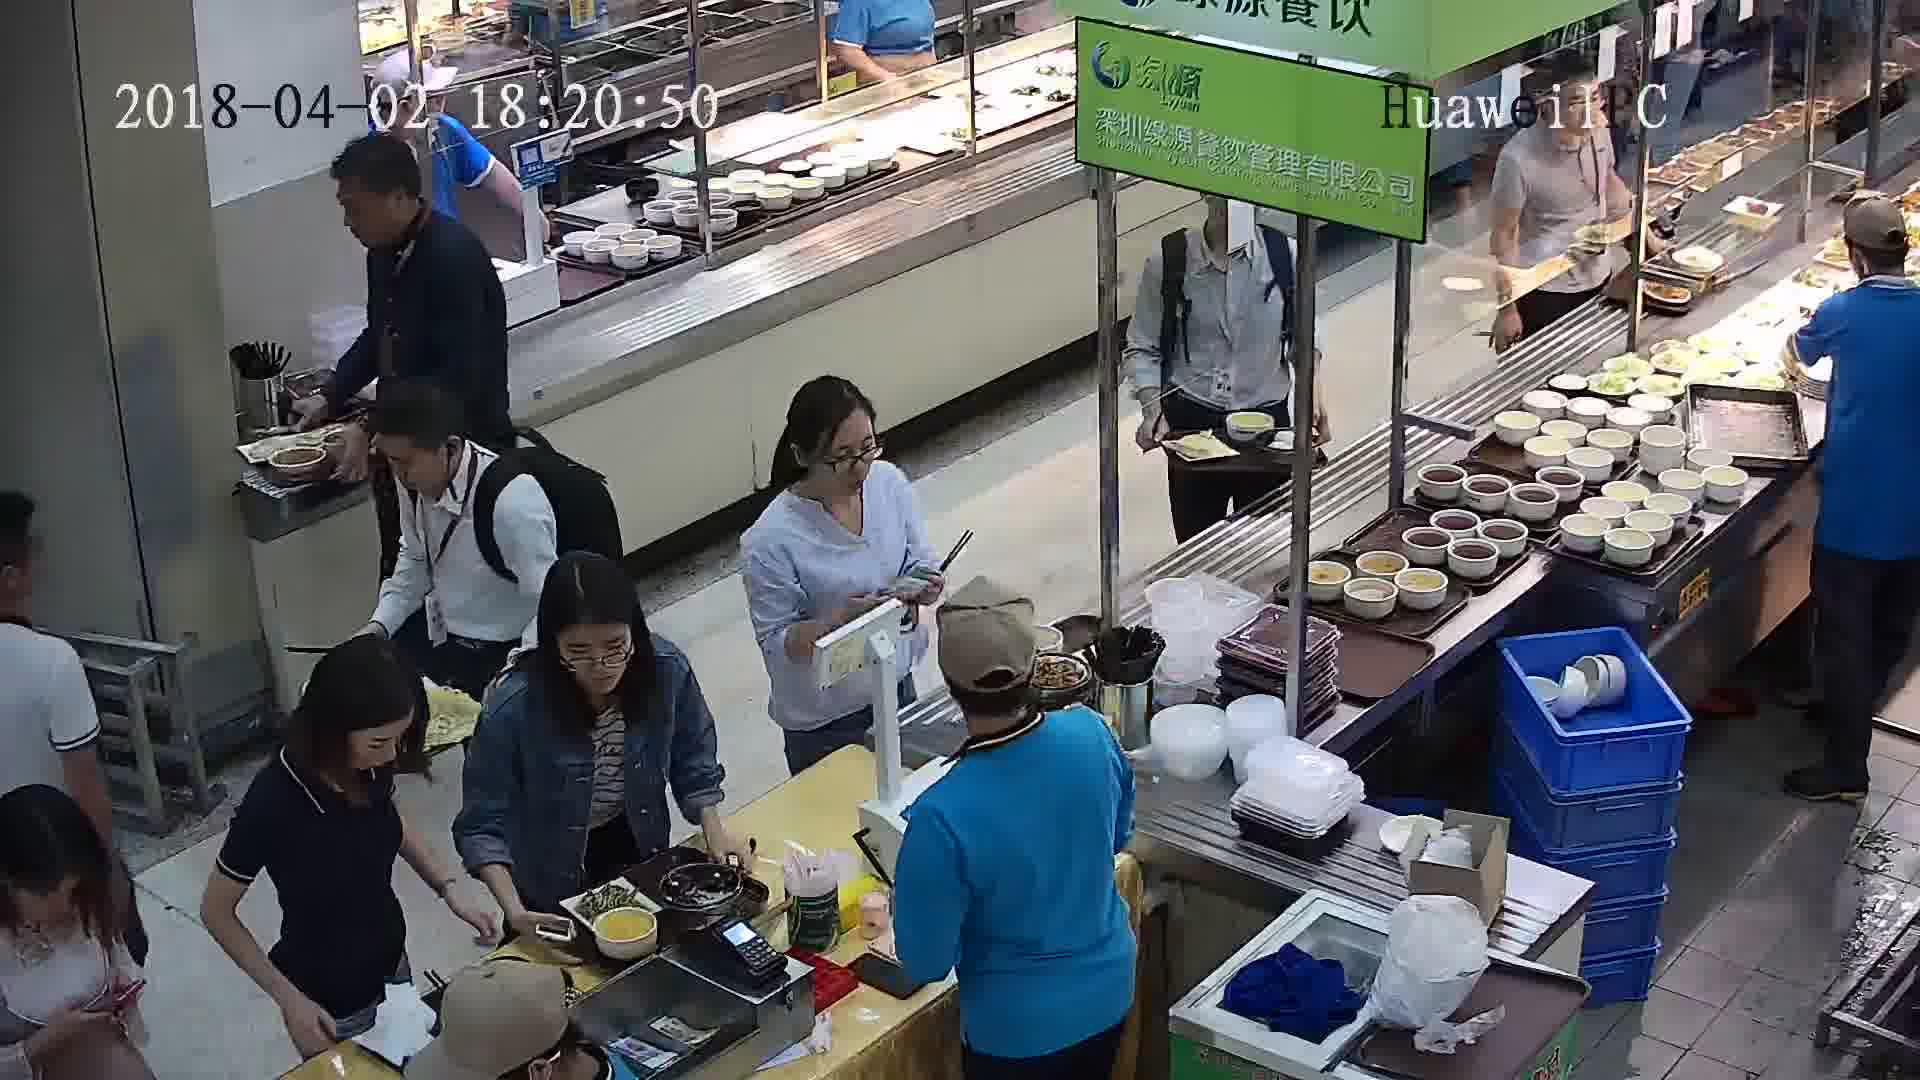face: (802, 414, 884, 496), (323, 171, 405, 252), (372, 426, 452, 506), (557, 618, 635, 696), (349, 708, 416, 775)
person: (914, 598, 1124, 847), (477, 548, 709, 754), (232, 639, 422, 848), (365, 377, 569, 555), (743, 371, 917, 564), (324, 130, 498, 310), (4, 785, 125, 988), (1, 486, 89, 716), (1808, 195, 1920, 350), (347, 54, 482, 174), (1502, 54, 1621, 174)
